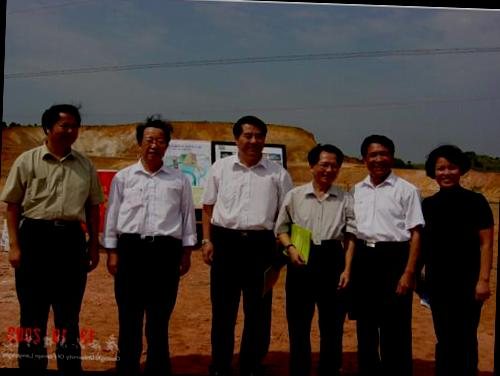no_helmet: (424, 141, 472, 194), (38, 100, 85, 152), (358, 131, 398, 180), (230, 112, 269, 160), (136, 119, 174, 165), (308, 143, 345, 188)
